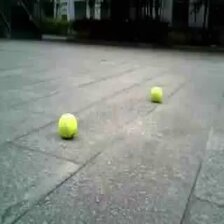tennis: (57, 113, 77, 137), (150, 86, 163, 101)
